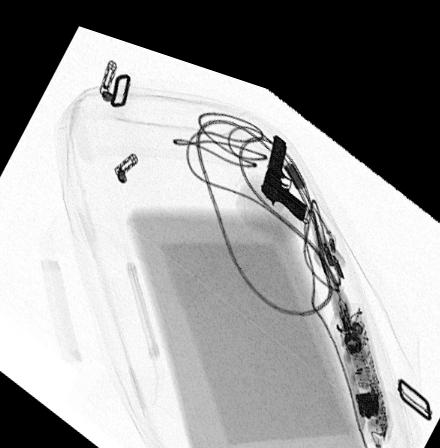Gun: (261, 116, 307, 202)
